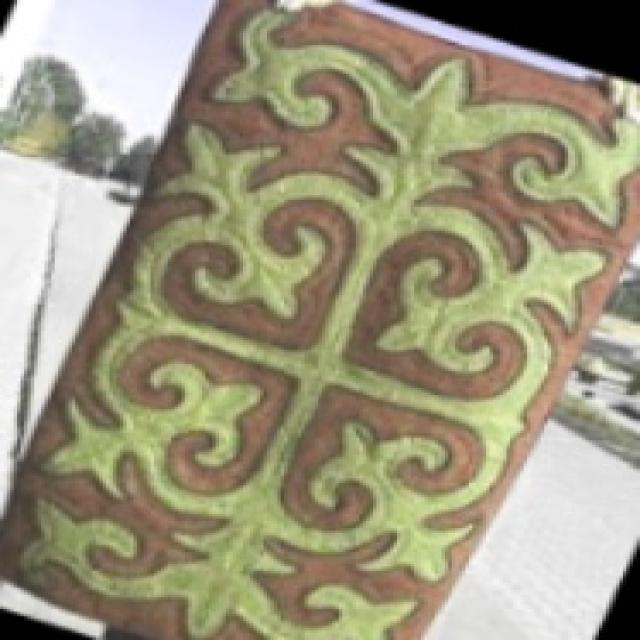Unity: (18, 106, 637, 591)
